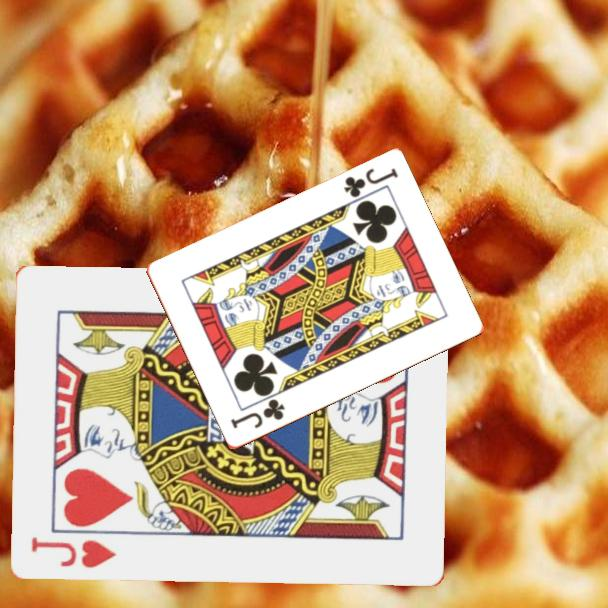c11: (227, 396, 288, 432), (340, 165, 401, 201)
h11: (28, 533, 120, 570)
